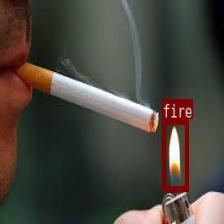fire: (162, 118, 188, 191)
